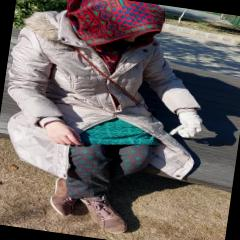gloved: (170, 107, 202, 138)
not-gloved: (44, 121, 84, 149)
